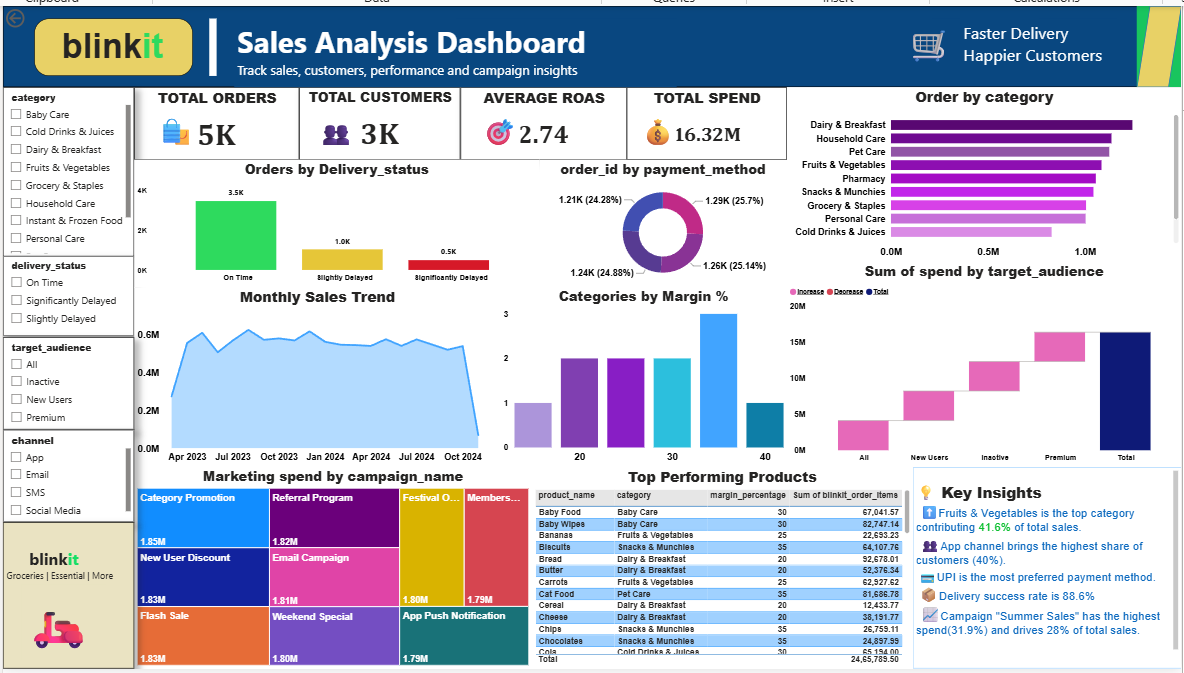

The page's visual inventory and layout, read from the dashboard file:
{"tool":"powerbi","page":{"name":"Page 1","canvas":[1920,1080],"ordinal":0},"visuals":[{"type":"textbox","box":[0,0,1920.4,132.4],"z":0},{"type":"cardVisual","title":"TOTAL ORDERS","fields":{"Data":["blinkit_orders.Total Order"]},"box":[213.8,132.4,268.8,118.1],"z":1000},{"type":"cardVisual","title":"TOTAL CUSTOMERS","fields":{"Data":["blinkit_customers.Total Customers"]},"box":[482.6,132.4,262.7,118.1],"z":2000},{"type":"textbox","box":[509.1,169,71.3,67.2],"z":3000},{"type":"cardVisual","title":"AVERAGE ROAS","fields":{"Data":["blinkit_marketing_performance.Total ROAS"]},"box":[745.4,132.4,270.9,118.1],"z":4000},{"type":"textbox","box":[775.9,169,67.2,67.2],"z":5000},{"type":"slicer","fields":{"Values":["blinkit_products.category"]},"box":[0,132.4,213.8,277],"z":6000},{"type":"slicer","fields":{"Values":["blinkit_orders.delivery_status"]},"box":[0,407.3,213.8,130.3],"z":7000},{"type":"clusteredBarChart","title":" Order by category","fields":{"Category":["blinkit_products.category"],"Y":["Sum(blinkit_orders.order_total)"]},"box":[1276.9,132.4,643.5,285.1],"z":8000},{"type":"clusteredColumnChart","title":" Orders by Delivery_status","fields":{"Category":["blinkit_orders.delivery_status"],"Y":["blinkit_orders.Total Order"]},"box":[213.8,250.5,659.8,207.7],"z":9000},{"type":"areaChart","title":"Monthly Sales Trend","fields":{"Category":["blinkit_orders.order_date.Variation.Date Hierarchy.Year","blinkit_orders.order_date.Variation.Date Hierarchy.Month"],"Y":["Sum(blinkit_orders.order_total)"]},"box":[213.8,458.2,596.7,293.3],"z":10000},{"type":"donutChart","title":"order_id by payment_method","fields":{"Category":["blinkit_orders.payment_method"],"Y":["CountNonNull(blinkit_orders.order_id)"]},"box":[873.7,250.5,403.2,207.7],"z":11000},{"type":"cardVisual","title":"TOTAL SPEND","fields":{"Data":["blinkit_marketing_performance.Marketing Spend"]},"box":[1016.2,132.4,260.7,118.1],"z":12000},{"type":"textbox","box":[1032.5,169,65.2,67.2],"z":13000},{"type":"waterfallChart","fields":{"Category":["blinkit_marketing_performance.target_audience"],"Y":["Sum(blinkit_marketing_performance.spend)"]},"box":[1276.9,417.5,643.5,334],"z":14000},{"type":"lineClusteredColumnComboChart","title":"Categories by Margin %","fields":{"Category":["blinkit_products.margin_percentage"],"Y":["Count(blinkit_products.category)"]},"box":[810.5,458.2,466.4,293.3],"z":15000},{"type":"treemap","title":"Marketing spend by campaign_name","fields":{"Values":["Sum(blinkit_marketing_performance.spend)"],"Group":["blinkit_marketing_performance.campaign_name"]},"box":[213.8,751.5,647.6,327.9],"z":16000},{"type":"slicer","fields":{"Values":["blinkit_marketing_performance.target_audience"]},"box":[0,539.7,213.8,150.7],"z":17000},{"type":"slicer","fields":{"Values":["blinkit_marketing_performance.channel"]},"box":[0,690.4,213.8,150.7],"z":18000},{"type":"tableEx","title":"Top Performing Products","fields":{"Values":["blinkit_products.product_name","blinkit_products.category","blinkit_products.margin_percentage","Sum(blinkit_orders.blinkit_order_items.unit_price)"]},"box":[861.4,751.5,621.1,327.9],"z":19000},{"type":"actionButton","box":[0,0,100,40],"z":20000},{"type":"textbox","box":[0,860,187,220],"z":21000},{"type":"textbox","box":[50.9,20.4,258.6,93.7],"z":22000},{"type":"shape","box":[1847.1,0,73.3,132.4],"z":23000},{"type":"textbox","box":[336,20.4,12.2,93.7],"z":24000},{"type":"textbox","box":[376.8,20.4,720.9,112],"z":25000},{"type":"textbox","box":[1466.3,20.4,93.7,93.7],"z":26000},{"type":"textbox","box":[1560,20.4,254.6,93.7],"z":27000},{"type":"textbox","box":[0,841.1,213.8,238.3],"z":28000},{"type":"textbox","box":[30.5,942.9,136.4,122.2],"z":29000},{"type":"textbox","box":[248.5,169,61.1,67.2],"z":30000},{"type":"textbox","box":[1482,751,438,328],"z":31000}]}

Visuals, with their boxes in screenshot pixels (x1, y1, x2, y2):
textbox: [0,3,1183,87]
"TOTAL ORDERS" cardVisual: [132,87,301,161]
"TOTAL CUSTOMERS" cardVisual: [301,87,467,161]
textbox: [318,110,363,152]
"AVERAGE ROAS" cardVisual: [467,87,638,161]
textbox: [486,110,528,152]
slicer - blinkit_products.category: [0,87,132,261]
slicer - blinkit_orders.delivery_status: [0,260,132,342]
" Order by category" clusteredBarChart: [802,87,1183,266]
" Orders by Delivery_status" clusteredColumnChart: [132,161,548,292]
"Monthly Sales Trend" areaChart: [132,292,508,477]
"order_id by payment_method" donutChart: [548,161,802,292]
"TOTAL SPEND" cardVisual: [638,87,802,161]
textbox: [648,110,689,152]
waterfallChart - blinkit_marketing_performance.target_audience x Sum(blinkit_marketing_performance.spend): [802,266,1183,477]
"Categories by Margin %" lineClusteredColumnComboChart: [508,292,802,477]
"Marketing spend by campaign_name" treemap: [132,477,540,672]
slicer - blinkit_marketing_performance.target_audience: [0,343,132,438]
slicer - blinkit_marketing_performance.channel: [0,438,132,533]
"Top Performing Products" tableEx: [540,477,932,672]
actionButton: [0,3,60,28]
textbox: [0,545,115,672]
textbox: [29,16,192,75]
shape: [1161,3,1183,87]
textbox: [209,16,216,75]
textbox: [234,16,689,87]
textbox: [921,16,980,75]
textbox: [980,16,1141,75]
textbox: [0,533,132,672]
textbox: [16,598,102,672]
textbox: [154,110,192,152]
textbox: [931,477,1183,672]
